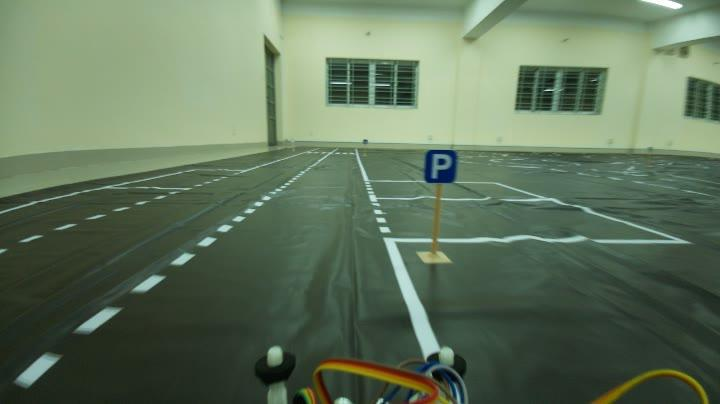parking: (416, 142, 466, 184)
